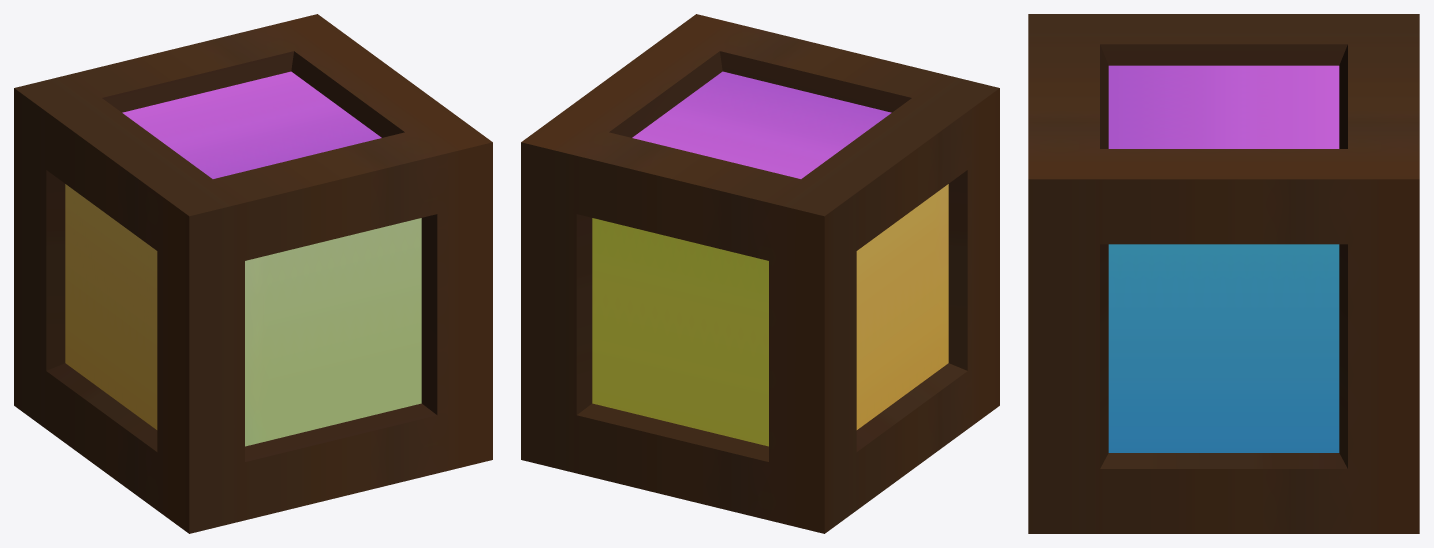
The model's file is SimpleCube.fbx.
3 views of the same model, side by side, from view 1: azimuth 30°, elevation 25°; view 2: azimuth 150°, elevation 25°; view 3: azimuth 270°, elevation 25° (orthographic). The views are drawn at different scales.
Visible parts, largest first — view 1: Cube.006; view 2: Cube.006; view 3: Cube.006.
Part boxes in pixels (x1,y1,x2,y2): Cube.006: (14, 14, 492, 533); Cube.006: (521, 14, 999, 533); Cube.006: (1028, 14, 1419, 533).
Size of the model in its own units: 200 by 200 by 200.
